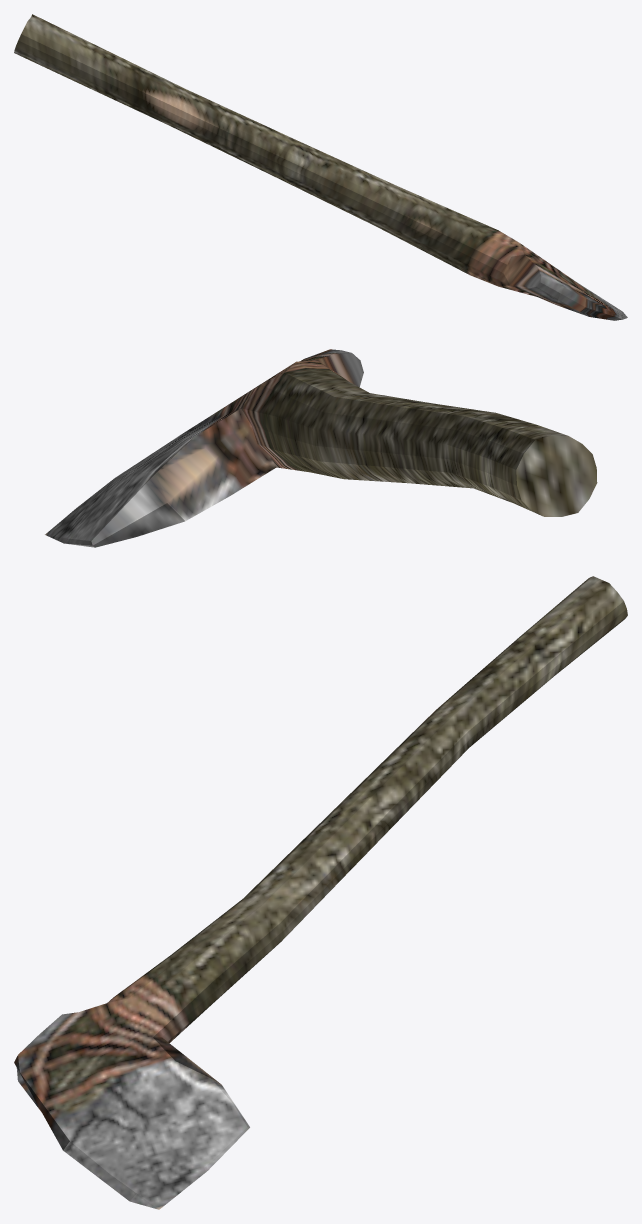
Rendered from axe.fbx.
The picture shows the model from 3 angles, top to bottom: view 1: azimuth 30°, elevation 25°; view 2: azimuth 150°, elevation 25°; view 3: azimuth 270°, elevation 25°; orthographic projection. The views are drawn at different scales.
Parts seen in each view (by area): view 1: Cube; view 2: Cube; view 3: Cube.
Boxes of the visible parts, left/top/right/bottom form: Cube: left=14, top=14, right=627, bottom=320; Cube: left=45, top=349, right=597, bottom=547; Cube: left=14, top=576, right=627, bottom=1209.
Bounding box in the file's own units: 270 × 161 × 249.
1 material, 1 textured.
